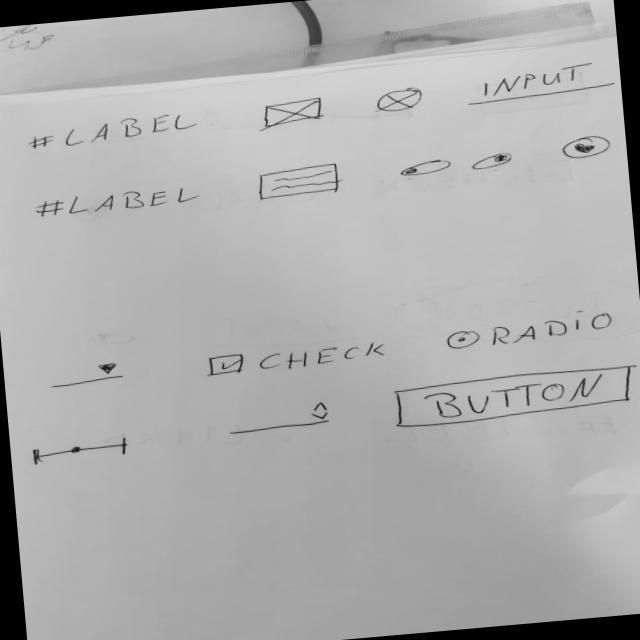button: (388, 363, 639, 432)
checkbox: (206, 339, 391, 380)
icon-button: (561, 134, 614, 160)
image: (258, 95, 328, 129), (373, 85, 428, 115)
input: (461, 59, 620, 108)
label: (25, 111, 203, 154), (32, 184, 206, 221)
number-input: (223, 400, 337, 438)
radio: (442, 307, 618, 354)
select: (47, 360, 130, 391)
slider: (30, 435, 133, 468)
textarea: (254, 162, 346, 203)
toggle: (397, 158, 453, 178), (470, 152, 516, 172)
